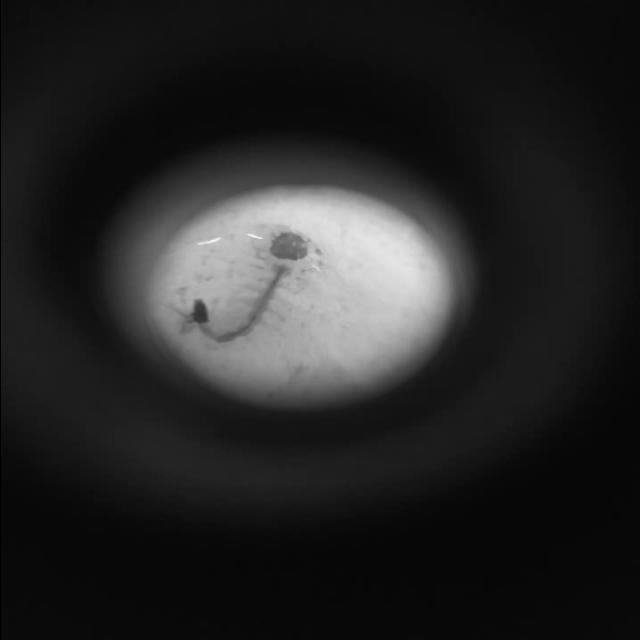larvas: (188, 232, 305, 343)
